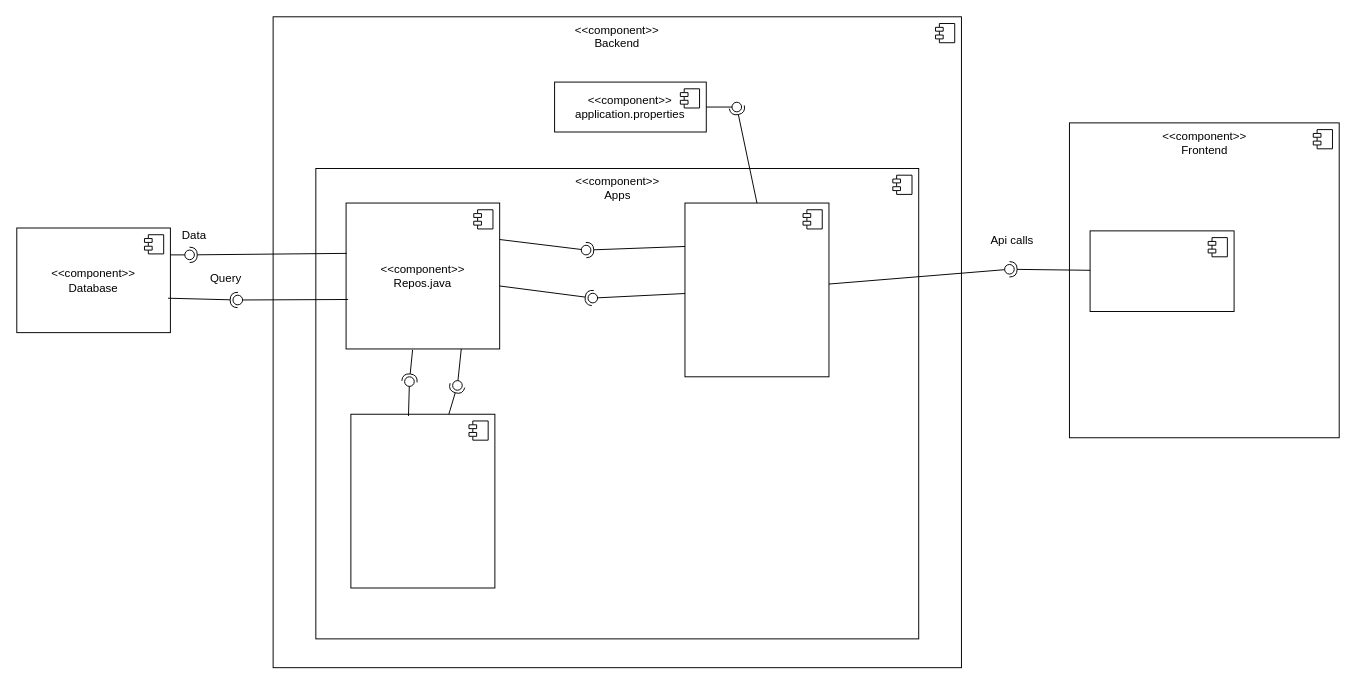
Some shapes in this 1356 by 684 pixel diagram are drawn without their labels. Each missing label, with the centre of its shape:
<<component>> Axios: point 1161,271
<<component>> Controller.java: point 756,289
<<component>> Models.java: point 422,500
